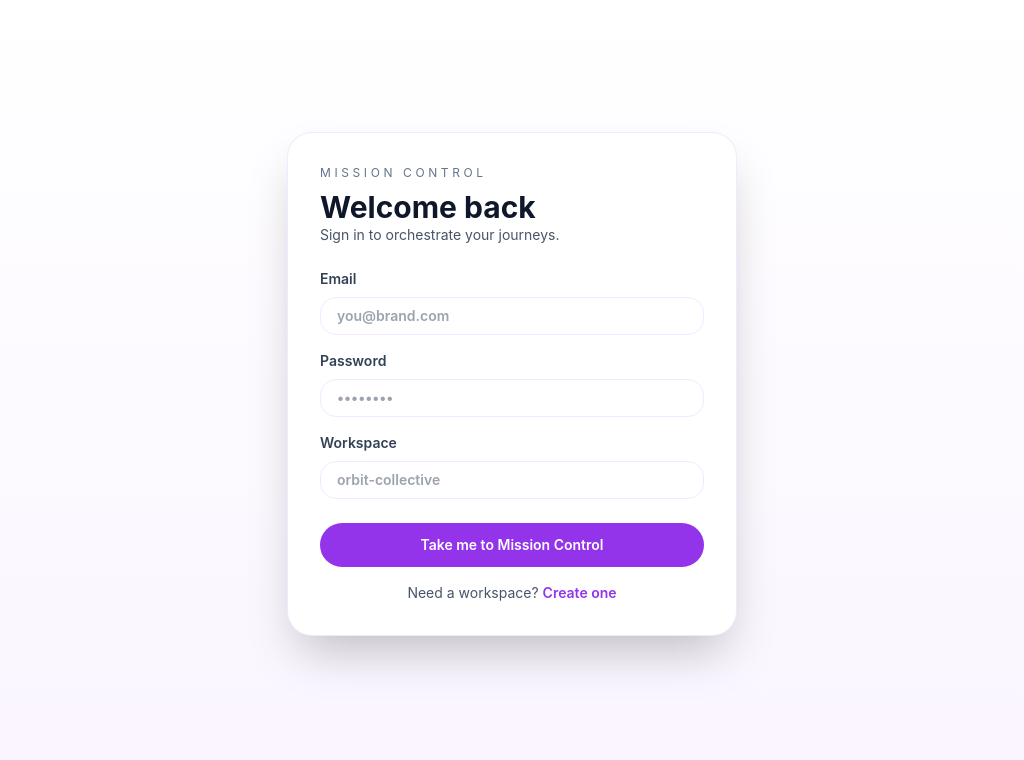
Scenario: Constellation smoke test › allows a marketer to sign in and view mission control
Type "ops@example.com" into the field named "email" at (512, 316), box [320,297,704,335]
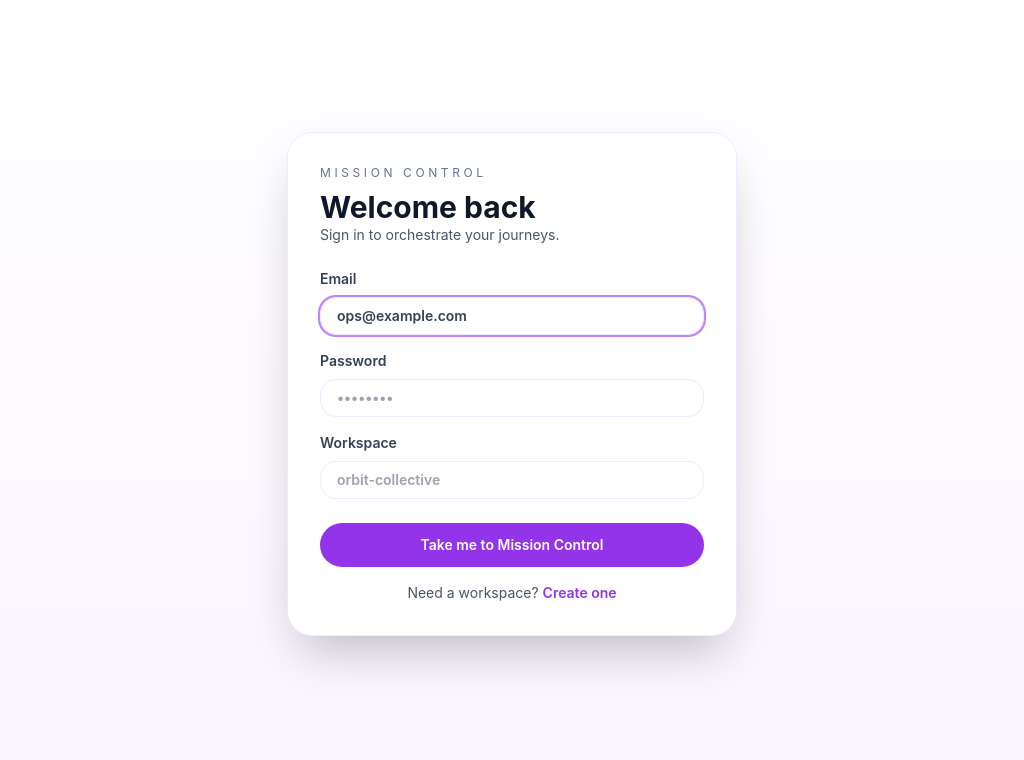
Type "marketing-platform" into the password field named "password" at (512, 398), box [320,379,704,417]
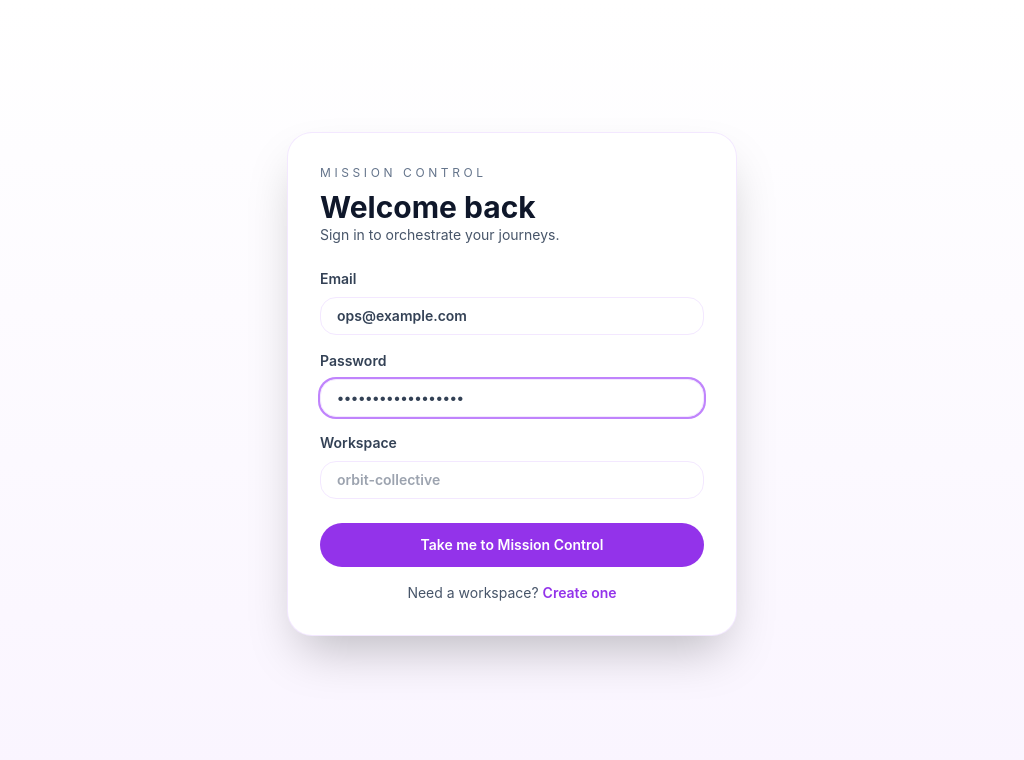
Type "Orbit Collective" into the field named "organization" at (512, 480), box [320,461,704,499]
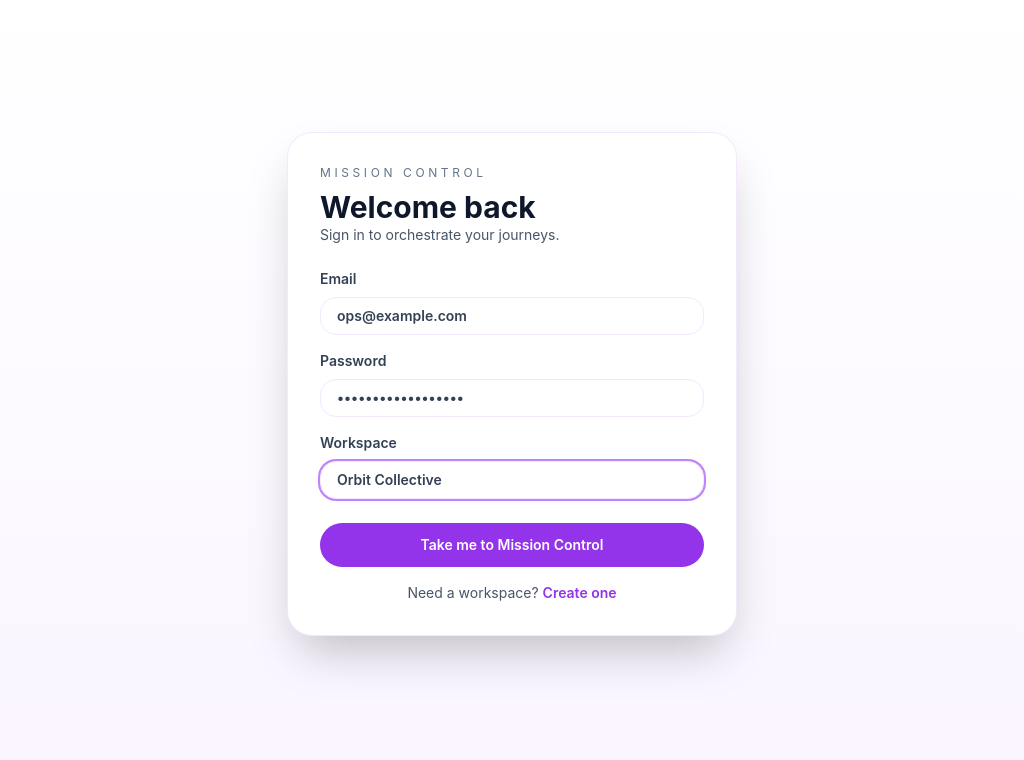
Click the button "Take me to Mission Control" at (512, 545), box [320,523,704,567]
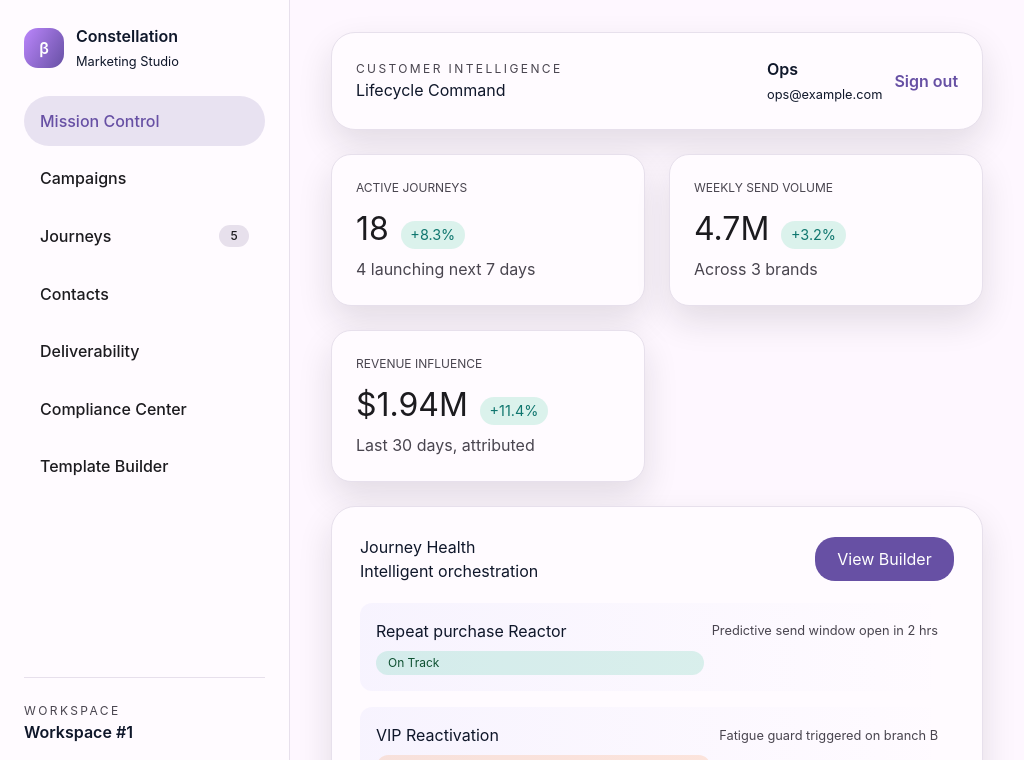
Expected: the link "Mission Control" is shown, [24,96,265,146]
Now the heading "Lifecycle Command" is shown, box [356,80,506,100]
